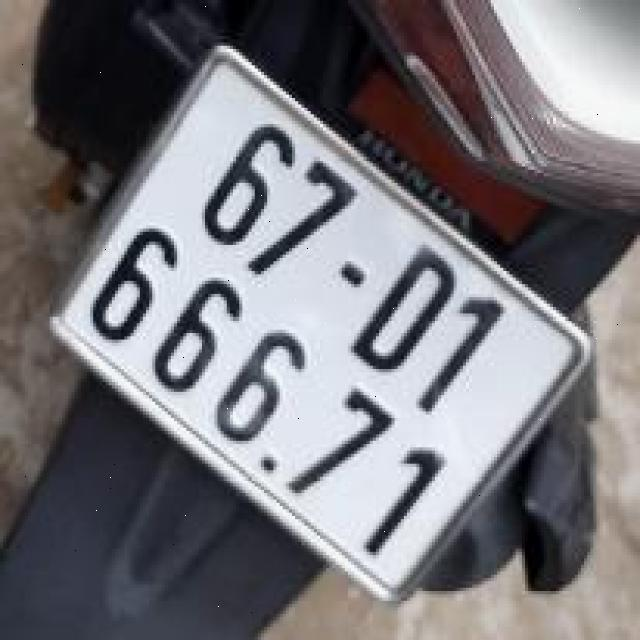1: (402, 272, 525, 430), (352, 430, 466, 579)
6: (75, 212, 206, 363), (197, 310, 332, 455), (138, 259, 264, 410), (192, 105, 313, 252)
7: (237, 143, 373, 296), (276, 368, 406, 513)
D: (337, 218, 487, 399)
